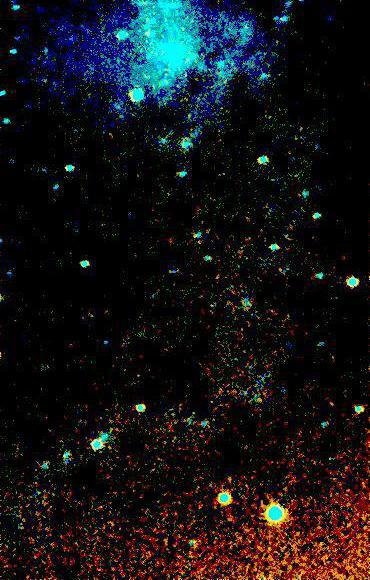star: (215, 464, 245, 494)
